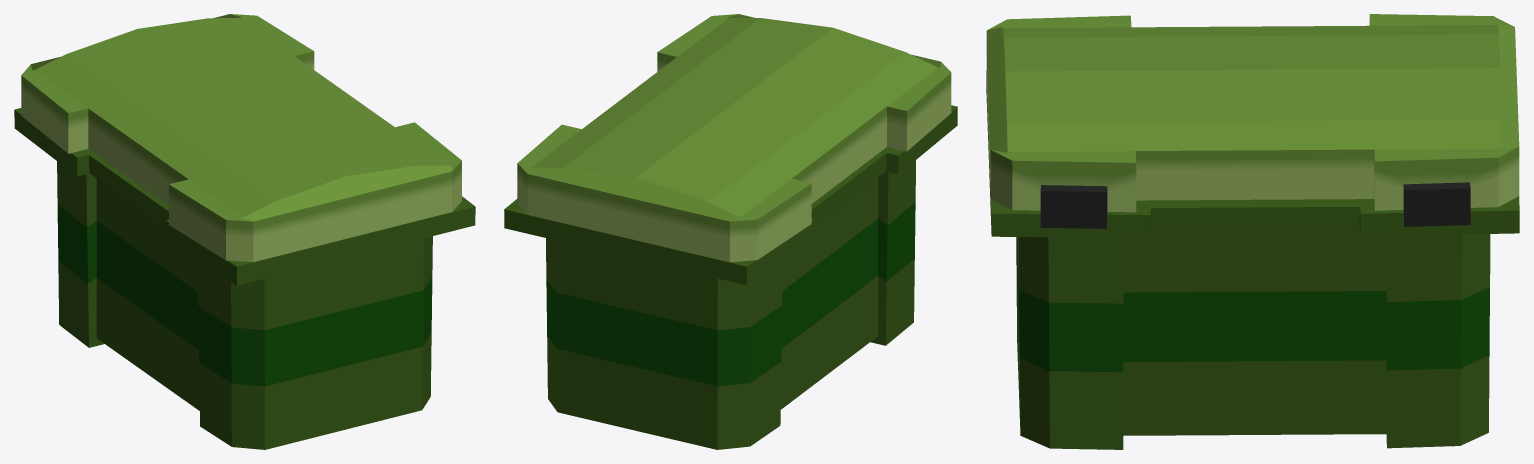
File: GarbageBin.fbx
3 views of the same model, side by side, from view 1: azimuth 30°, elevation 25°; view 2: azimuth 150°, elevation 25°; view 3: azimuth 270°, elevation 25° (orthographic). The views are drawn at different scales.
Visible parts, largest first — view 1: Cube.015, Cube.019; view 2: Cube.015, Cube.019; view 3: Cube.015, Cube.019.
Boxes of the visible parts, x1,y1,x2,y2 form: Cube.015: (14,108,475,449); Cube.019: (21,14,461,262); Cube.015: (504,105,957,449); Cube.019: (517,14,951,262); Cube.015: (986,71,1519,449); Cube.019: (986,14,1519,228).
Size of the model in its own units: 223 by 213 by 325.
